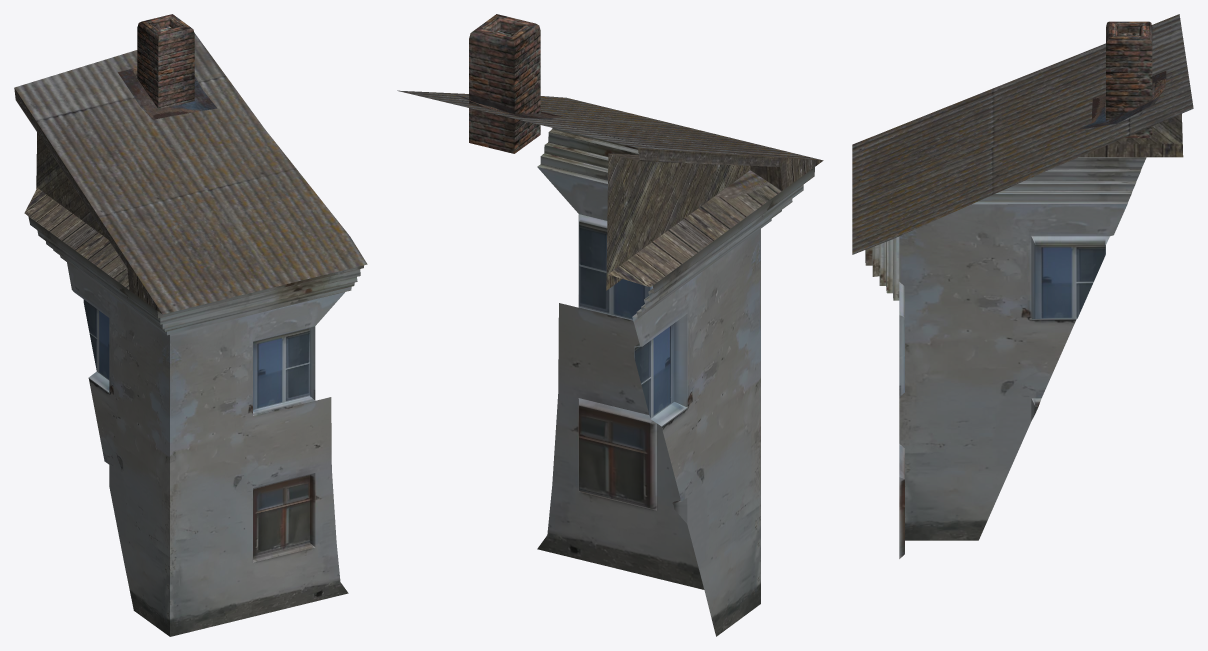
Rendered from House_03_05.fbx.
3 renders of one model, left to right at view 1: azimuth 30°, elevation 25°; view 2: azimuth 150°, elevation 25°; view 3: azimuth 270°, elevation 25°, orthographic. The views are drawn at different scales.
Parts seen in each view (by area): view 1: Дом2.005; view 2: Дом2.005; view 3: Дом2.005.
Boxes of the visible parts, x1,y1,x2,y2 form: Дом2.005: (14, 14, 367, 636); Дом2.005: (397, 14, 823, 636); Дом2.005: (852, 14, 1193, 558).
Size of the model in its own units: 8.41 by 19.84 by 10.87.
Materials: 1 (1 with a texture image).
